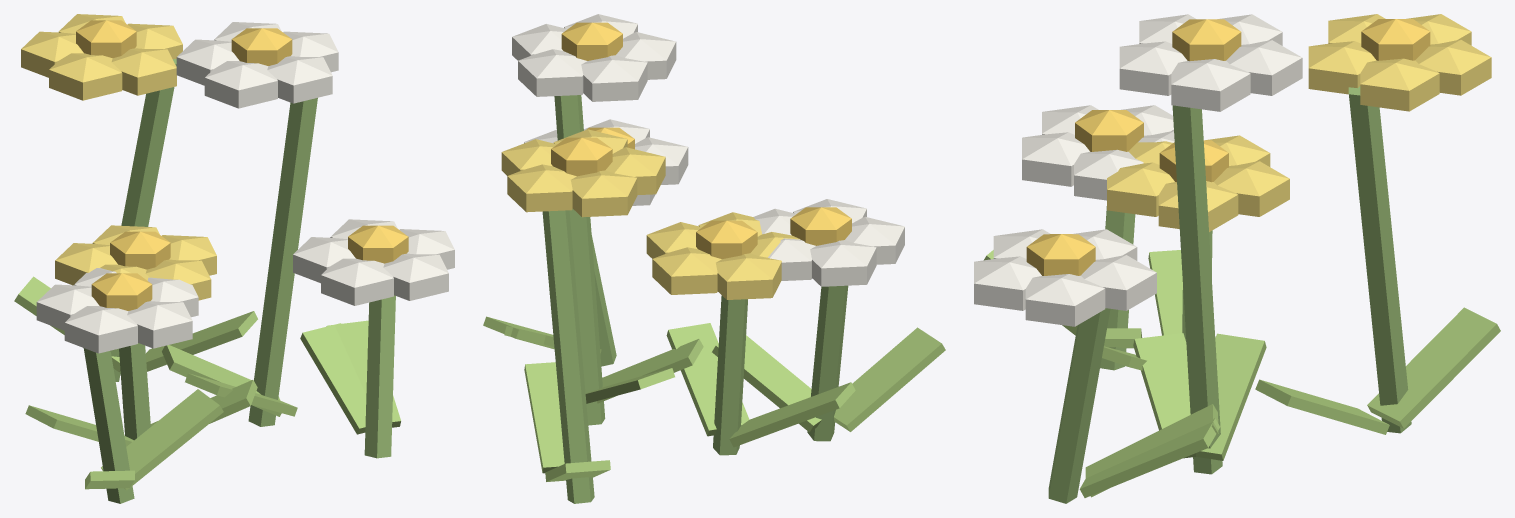
The model's file is flowers_yellow.glb.
3 views of the same model, side by side, from view 1: azimuth 30°, elevation 25°; view 2: azimuth 150°, elevation 25°; view 3: azimuth 270°, elevation 25° (orthographic). The views are drawn at different scales.
Parts seen in each view (by area): view 1: flowers_yellow; view 2: flowers_yellow; view 3: flowers_yellow.
Part boxes in pixels (box(x1,y1,x2,y2)): flowers_yellow: box(14, 14, 454, 503); flowers_yellow: box(483, 14, 945, 503); flowers_yellow: box(974, 14, 1500, 503).
Bounding box in the file's own units: 0.6987 × 0.6849 × 0.7268.
